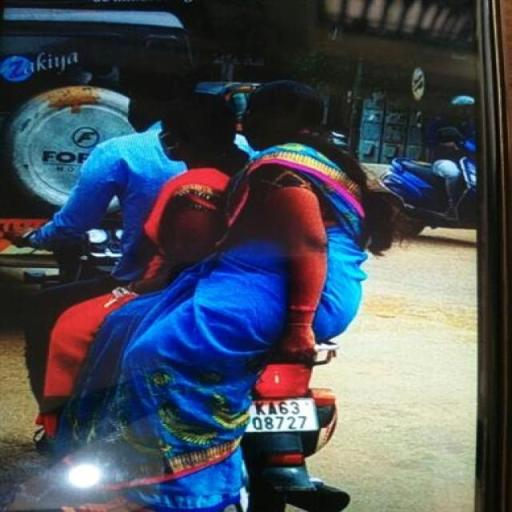tripple riding: (6, 56, 400, 359)
